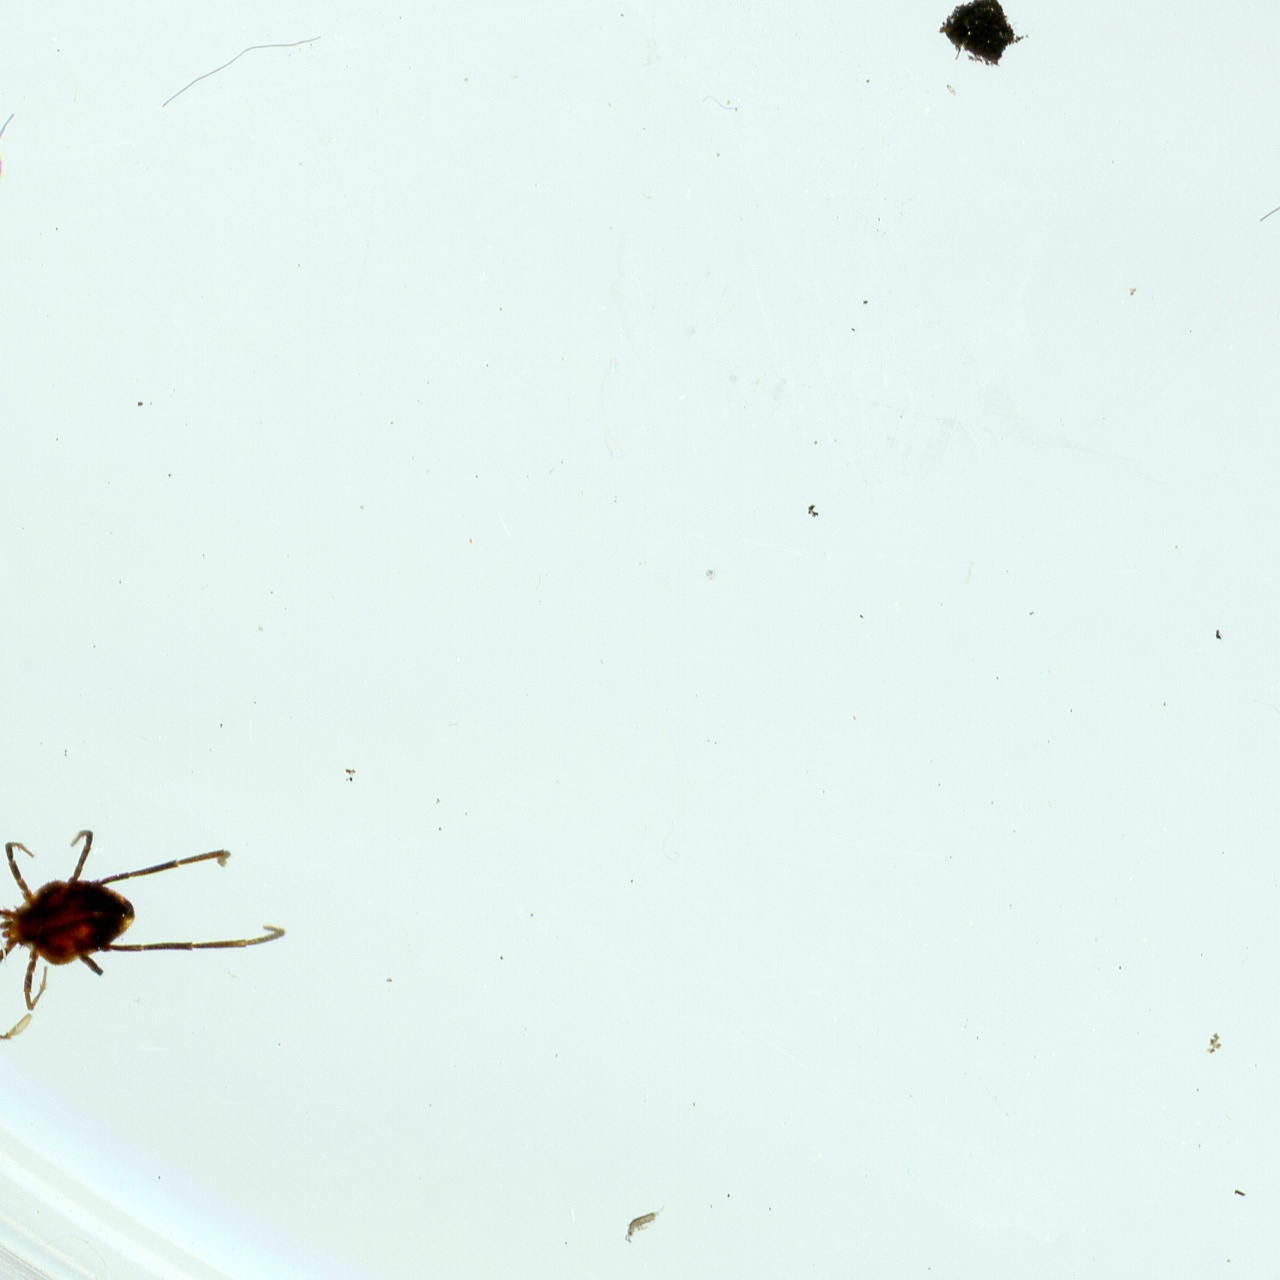arthropod: (0, 823, 288, 1049), (619, 1192, 676, 1248)
